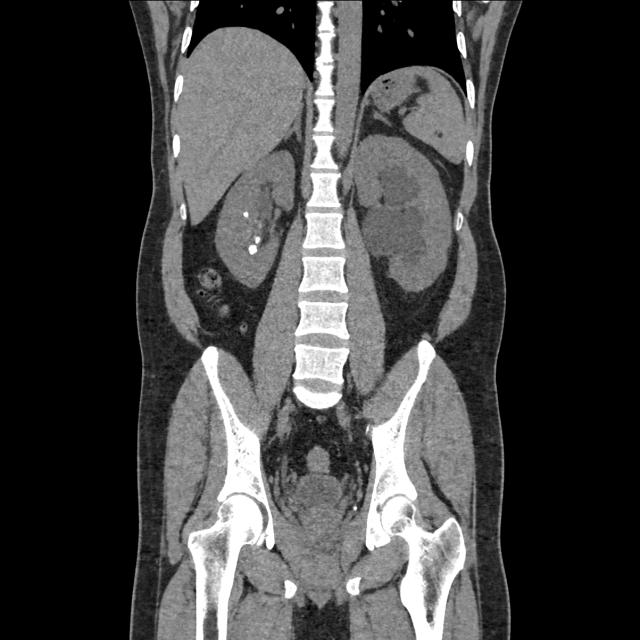kidneystone: (249, 244, 258, 255), (242, 212, 249, 218), (255, 236, 261, 243)
